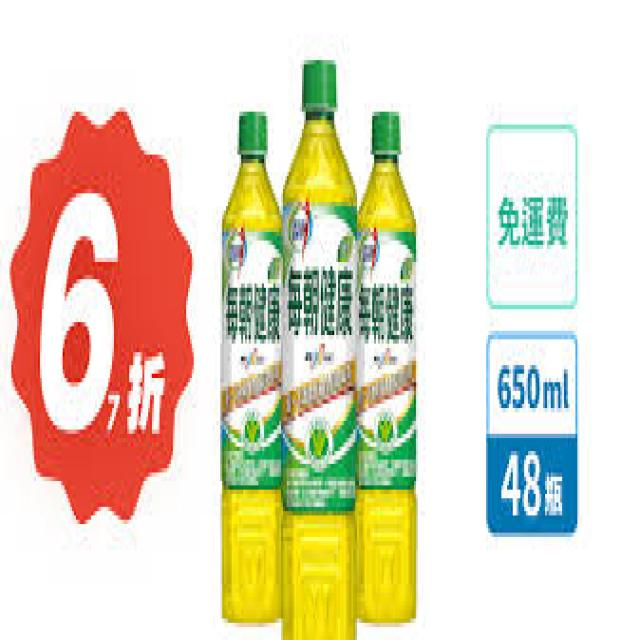MeiChou_GreenTea: (283, 33, 360, 639), (215, 97, 284, 628), (358, 89, 417, 625)
